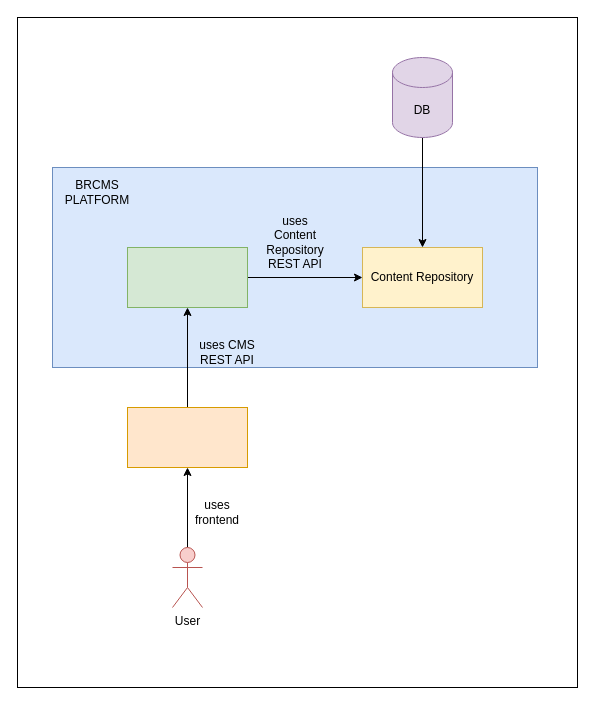
Image size: 595x705. Some labels were removed from this diagram. The shapes that lost their labels are listed below. From the top down, each one's centre as x and y in pixels, then its label:
At (x=187, y=277): "CMS".
At (x=187, y=437): "Frontend Implementation".
